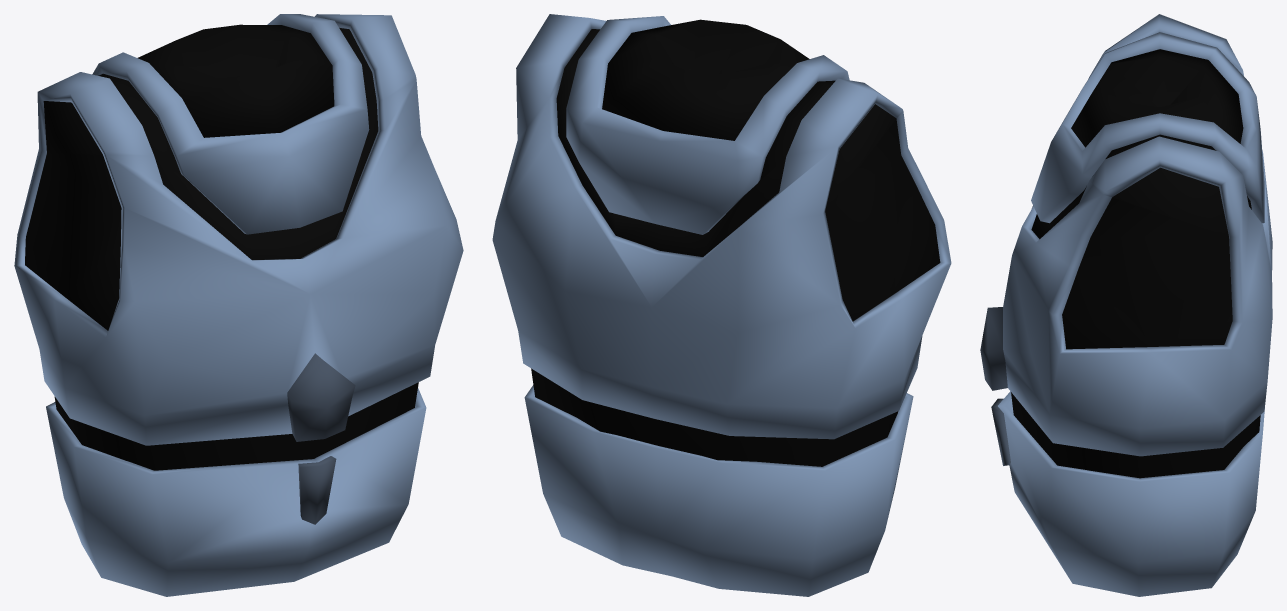
File: TrooperArmor.fbx
3 renders of one model, left to right at view 1: azimuth 30°, elevation 25°; view 2: azimuth 150°, elevation 25°; view 3: azimuth 270°, elevation 25°, orthographic. The views are drawn at different scales.
Visible parts, largest first — view 1: extrusion_chest.002; view 2: extrusion_chest.002; view 3: extrusion_chest.002.
Part boxes in pixels (box(x1,y1,x2,y2)): extrusion_chest.002: box(14, 14, 463, 596); extrusion_chest.002: box(492, 14, 951, 596); extrusion_chest.002: box(980, 14, 1272, 596).
Size of the model in its own units: 184 by 239 by 138.
